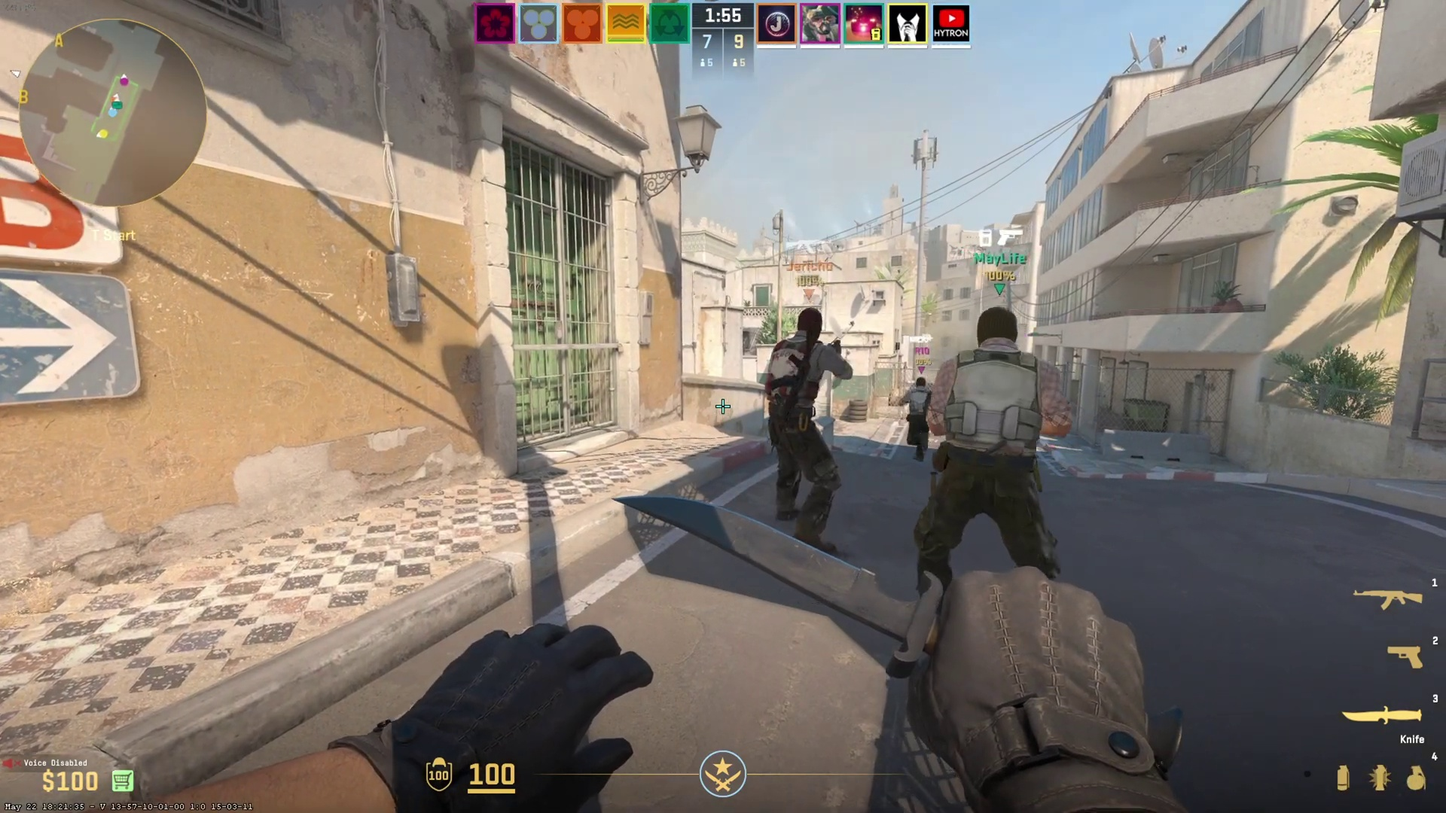Terrorist: (930, 303, 1058, 594), (767, 305, 835, 545), (903, 373, 930, 456)
